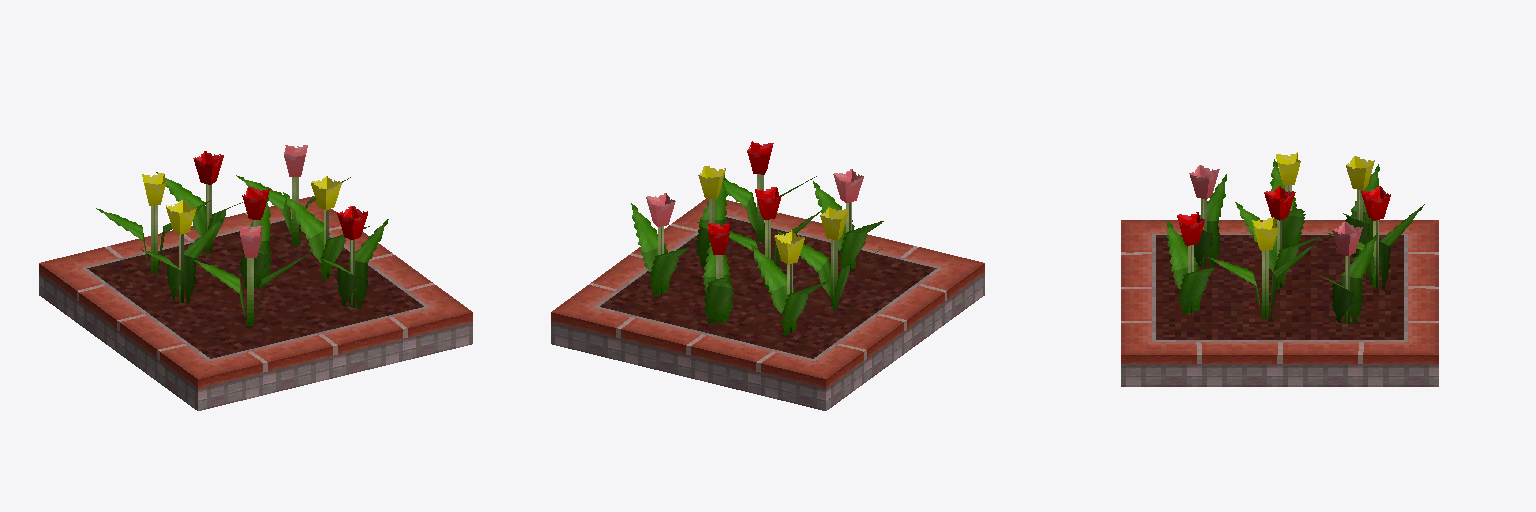
The picture shows the model from 3 angles: view 1: azimuth 30°, elevation 25°; view 2: azimuth 150°, elevation 25°; view 3: azimuth 270°, elevation 25°; orthographic projection.
Parts seen in each view (by area): view 1: polygon2.020, polygon0.041, polygon3, polygon4; view 2: polygon2.020, polygon0.041, polygon3, polygon4; view 3: polygon2.020, polygon0.041, polygon3, polygon4.
Boxes of the visible parts, box(x1,y1,x2,y2) form: polygon2.020: box(39, 196, 472, 410); polygon0.041: box(87, 220, 423, 358); polygon3: box(96, 172, 388, 326); polygon4: box(142, 145, 367, 325); polygon2.020: box(551, 198, 984, 410); polygon0.041: box(600, 217, 936, 358); polygon3: box(631, 175, 883, 335); polygon4: box(646, 141, 863, 332); polygon2.020: box(1121, 220, 1438, 386); polygon0.041: box(1156, 235, 1403, 339); polygon3: box(1167, 159, 1424, 324); polygon4: box(1177, 152, 1390, 323).
Bounding box in the file's own units: 9 × 3.98 × 9.
4 materials, 4 textured.